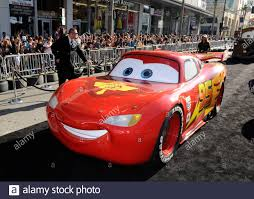mcqueen: (46, 49, 228, 165)
